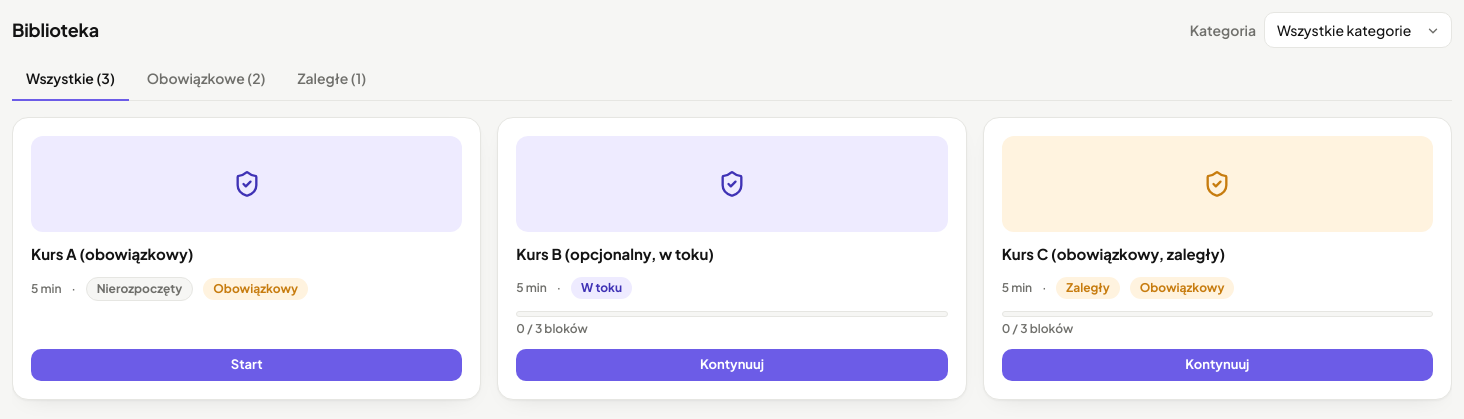
Test case: CourseLibrary - filtrowanie klienckie po zakładkach › zakładka "Zaległe" pokazuje tylko status=OVERDUE
Click the tab "Zaległe (1)" at [332, 80], box [284,58,380,101]
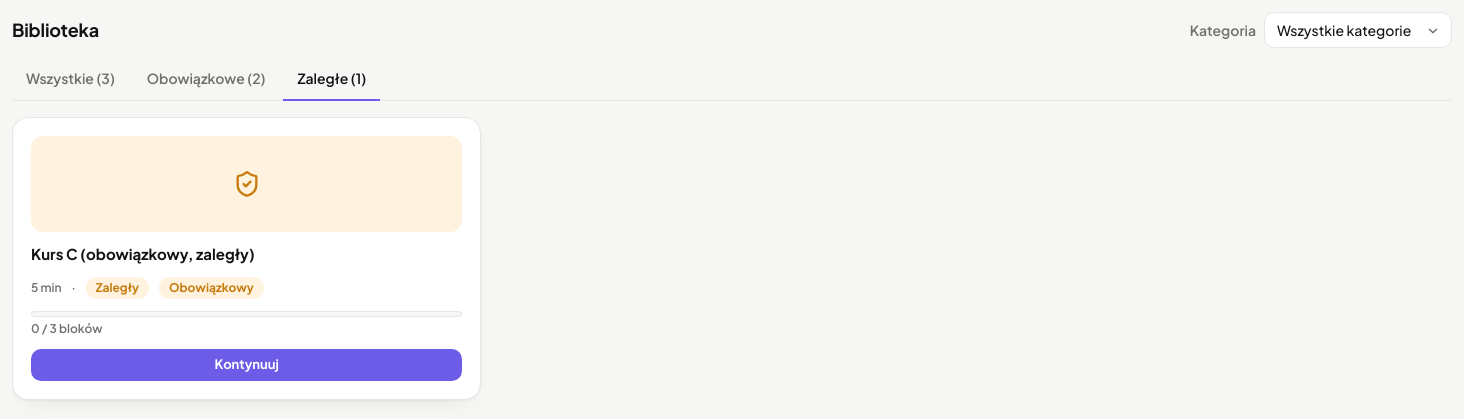
Expected: the heading "Kurs C (obowiązkowy, zaległy)" is shown, [31,244,255,263]
Expected: the heading "Kurs A (obowiązkowy)" is gone
Expected: the heading "Kurs B (opcjonalny, w toku)" is gone
